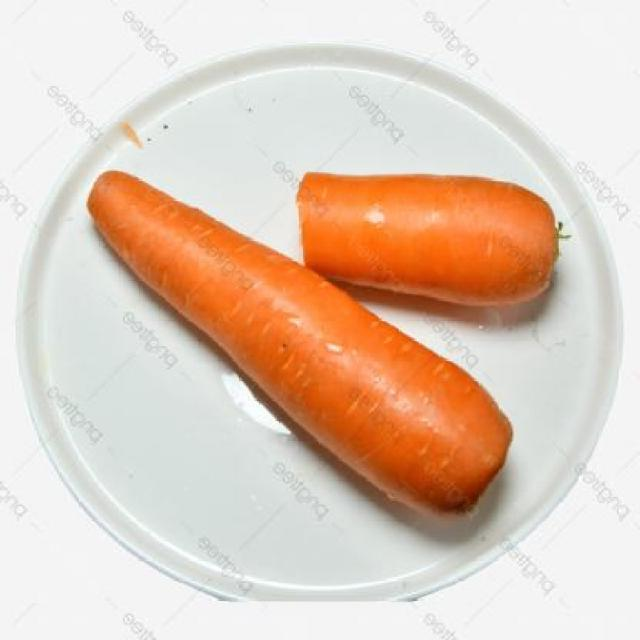carrot: (79, 167, 518, 527), (297, 162, 566, 302)
